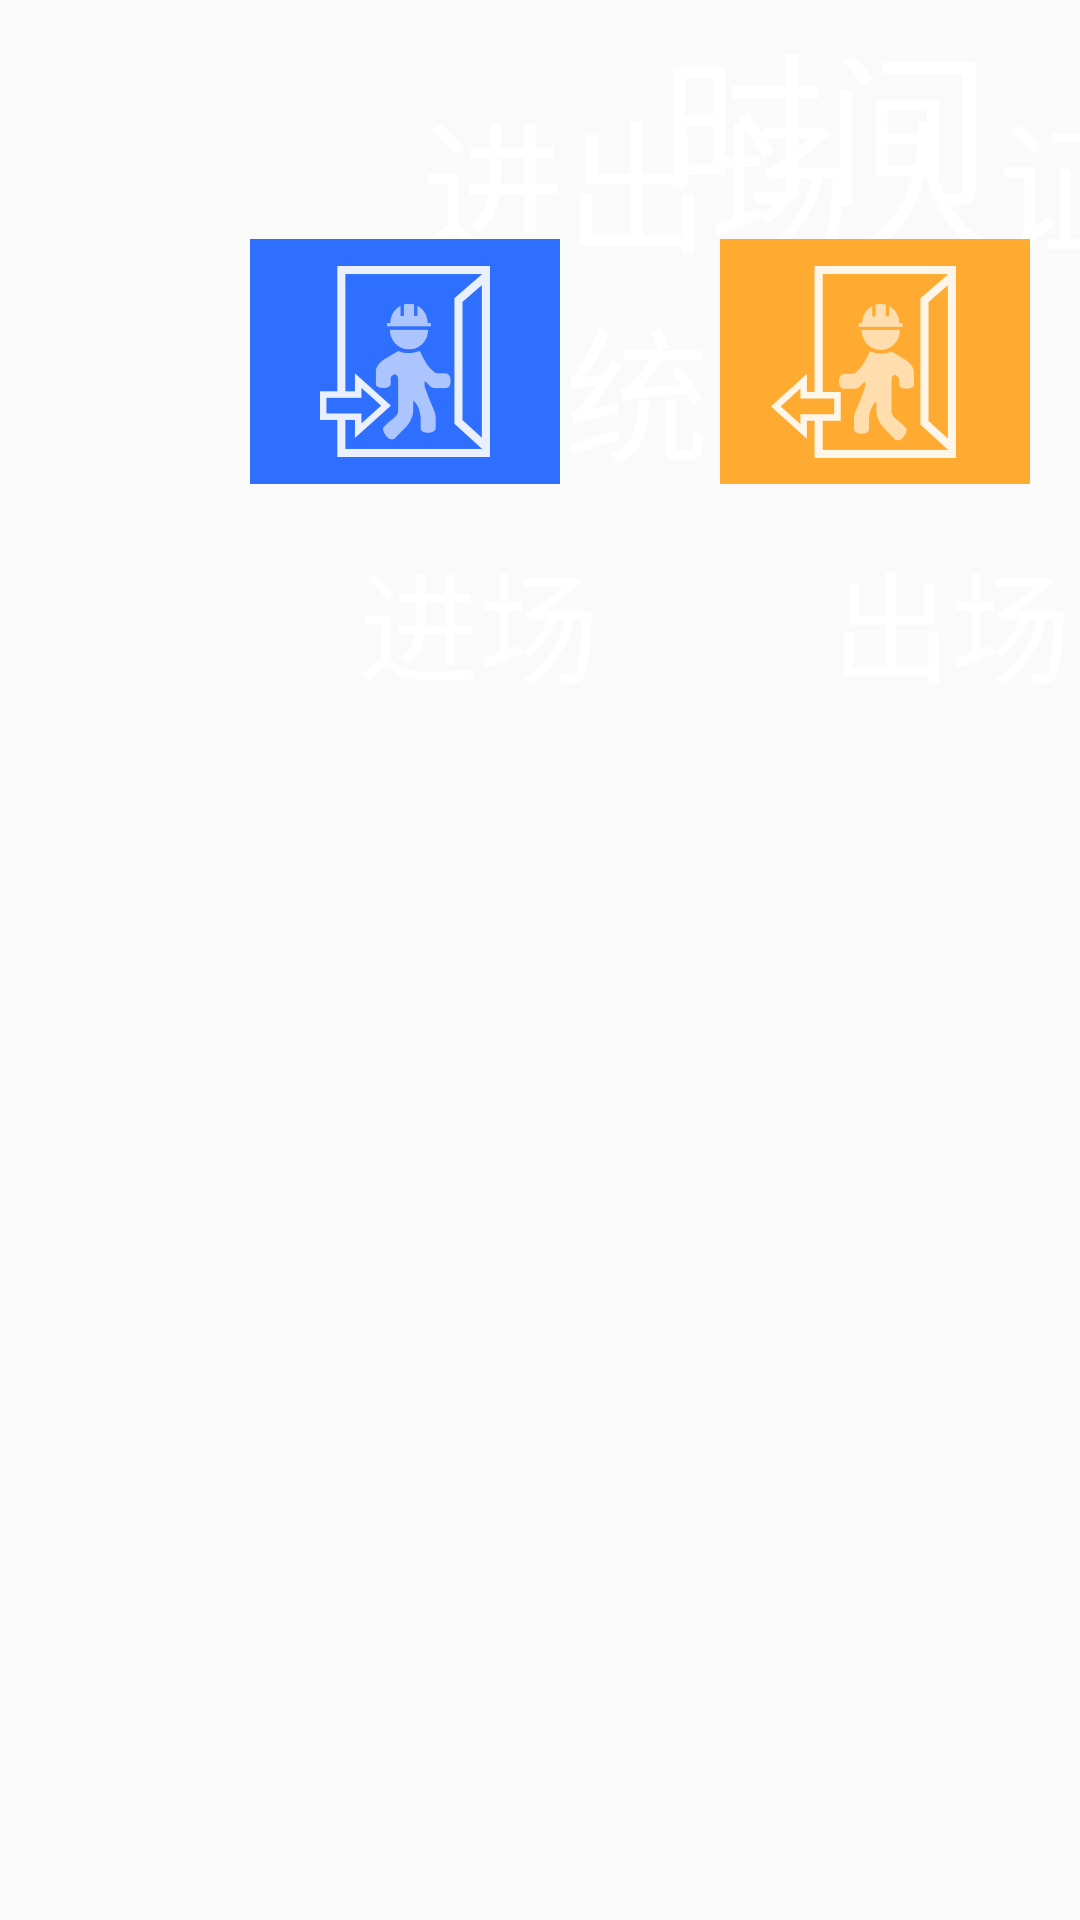

Named icons in this screenshot (1080 × 1920) and their bounding boxes, (left=x1, top=y1, right=x2, bottom=y2):
out: (left=720, top=239, right=1030, bottom=484)
